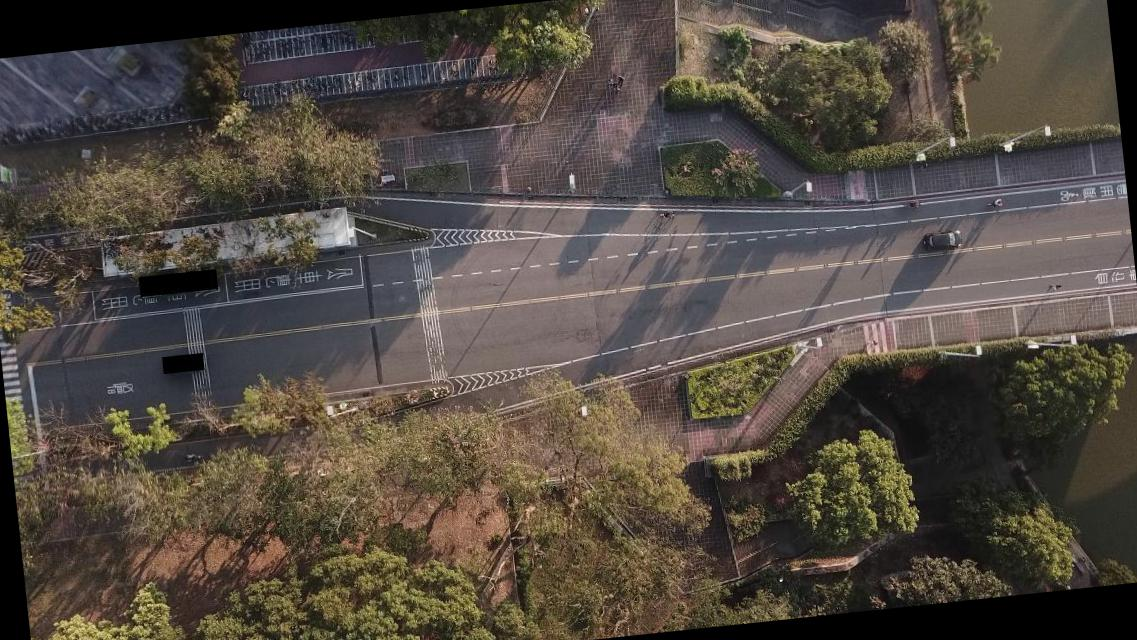vehicle: (921, 228, 964, 250)
